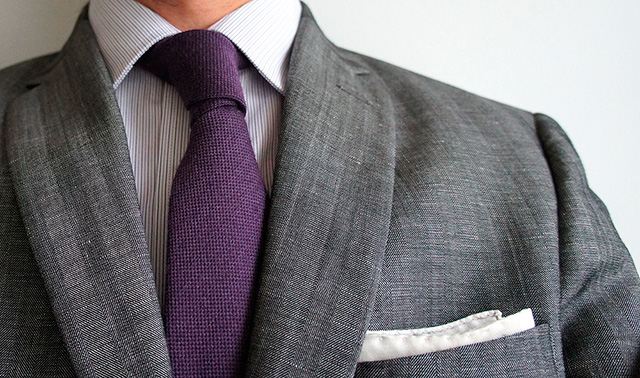tie: (120, 19, 291, 371)
